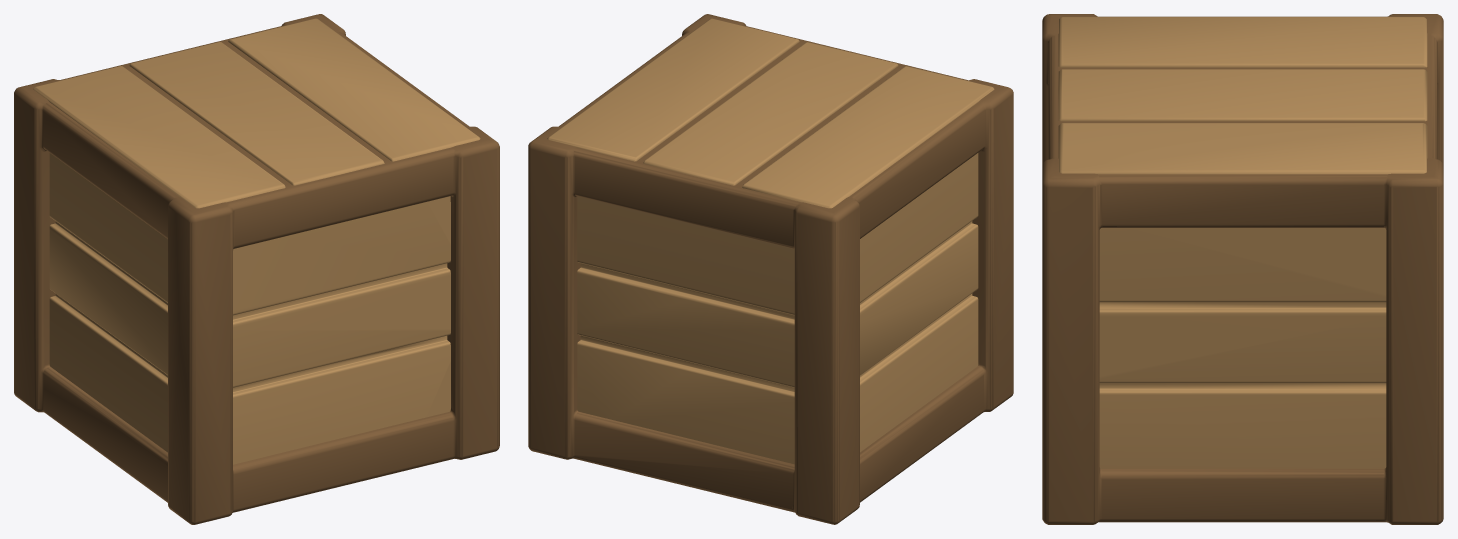
3 renders of one model, left to right at view 1: azimuth 30°, elevation 25°; view 2: azimuth 150°, elevation 25°; view 3: azimuth 270°, elevation 25°, orthographic. The views are drawn at different scales.
Parts seen in each view (by area): view 1: wooden_crate_planks, wooden_crate_frame; view 2: wooden_crate_planks, wooden_crate_frame; view 3: wooden_crate_planks, wooden_crate_frame.
Part boxes in pixels (<box>): wooden_crate_planks: <box>33,18,480,464</box>; wooden_crate_frame: <box>14,14,499,524</box>; wooden_crate_planks: <box>547,18,994,464</box>; wooden_crate_frame: <box>528,14,1013,524</box>; wooden_crate_planks: <box>1058,17,1427,468</box>; wooden_crate_frame: <box>1042,14,1443,524</box>.
Bounding box in the file's own units: 0.63 × 0.606 × 0.63.
Materials: 1 (1 with a texture image).
